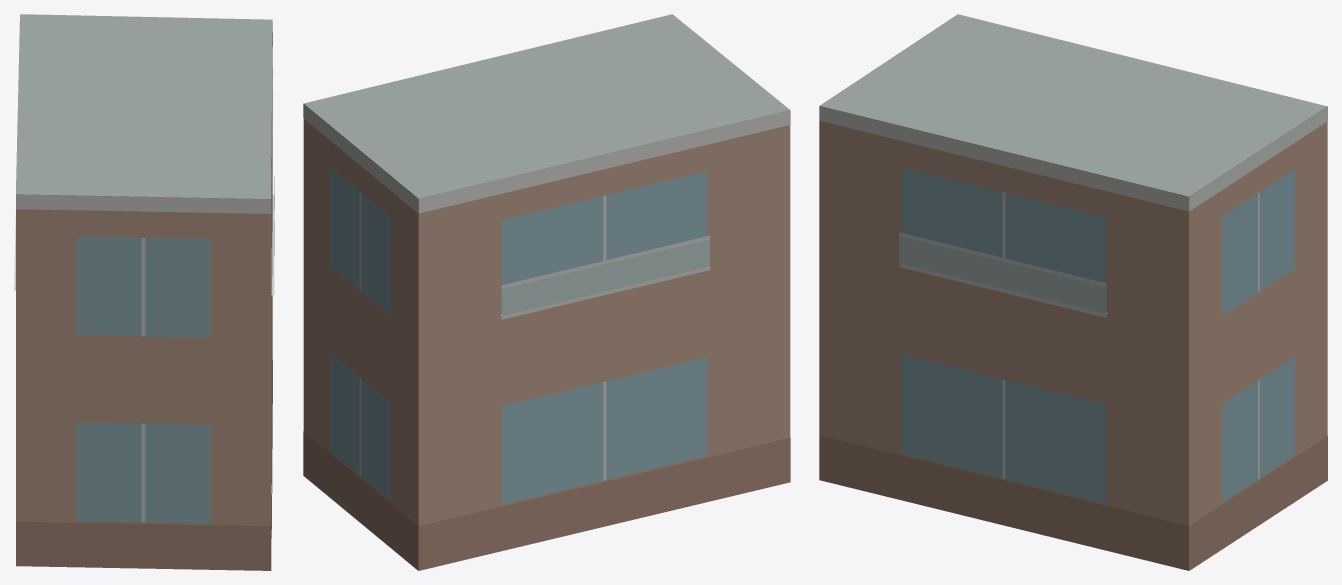
Rendered from survey-upis-32814481.glb.
The picture shows the model from 3 angles, left to right: view 1: azimuth 30°, elevation 25°; view 2: azimuth 150°, elevation 25°; view 3: azimuth 270°, elevation 25°; orthographic projection.
Visible parts, largest first — view 1: survey-upis-32814481.tmp; view 2: survey-upis-32814481.tmp; view 3: survey-upis-32814481.tmp.
Part boxes in pixels (x1,y1,x2,y2): survey-upis-32814481.tmp: (14, 14, 274, 570); survey-upis-32814481.tmp: (303, 14, 790, 570); survey-upis-32814481.tmp: (819, 14, 1327, 570).
Size of the model in its own units: 6.39 by 6.1 by 7.52.
